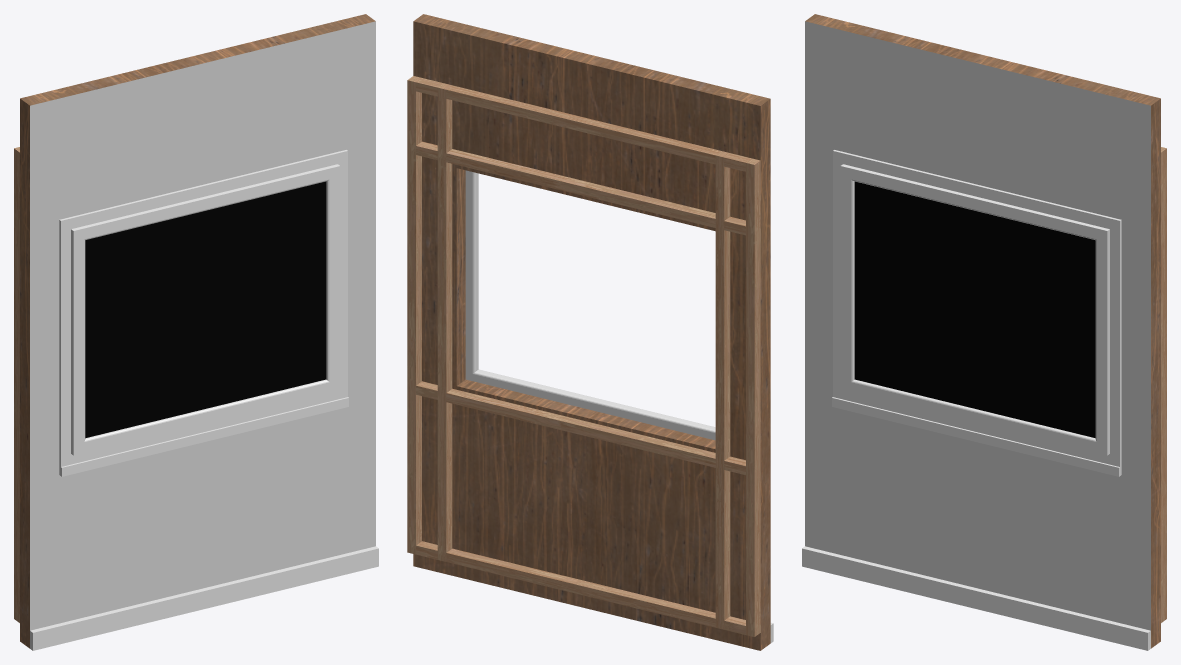
Rendered from MovieSet_WallWindow_02.fbx.
3 renders of one model, left to right at view 1: azimuth 30°, elevation 25°; view 2: azimuth 150°, elevation 25°; view 3: azimuth 330°, elevation 25°, orthographic.
Parts seen in each view (by area): view 1: MovieSet_WallWindow_02; view 2: MovieSet_WallWindow_02; view 3: MovieSet_WallWindow_02.
Part boxes in pixels (x1=…): MovieSet_WallWindow_02: x1=14, y1=14, x2=378, y2=650; MovieSet_WallWindow_02: x1=407, y1=14, x2=773, y2=650; MovieSet_WallWindow_02: x1=802, y1=14, x2=1166, y2=650.
Size of the model in its own units: 2 by 3 by 0.2.
